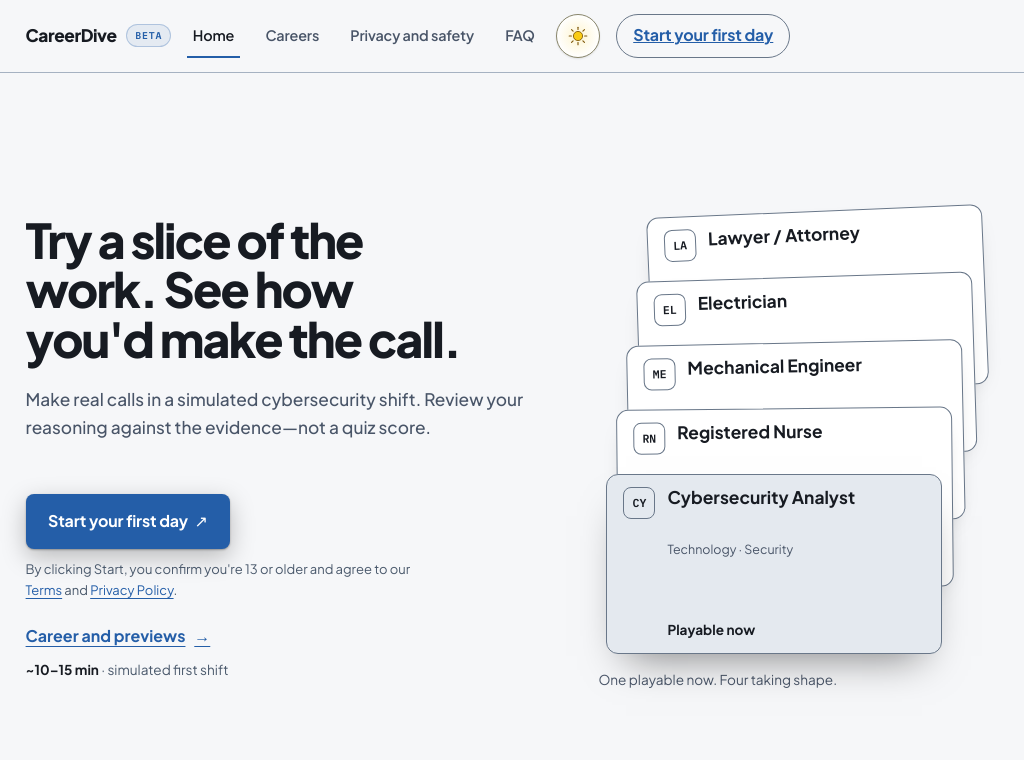
Test case: site routes › landing hero routes directly to the floor map
Click the link to "/start": (128, 521) [26,494,230,549]
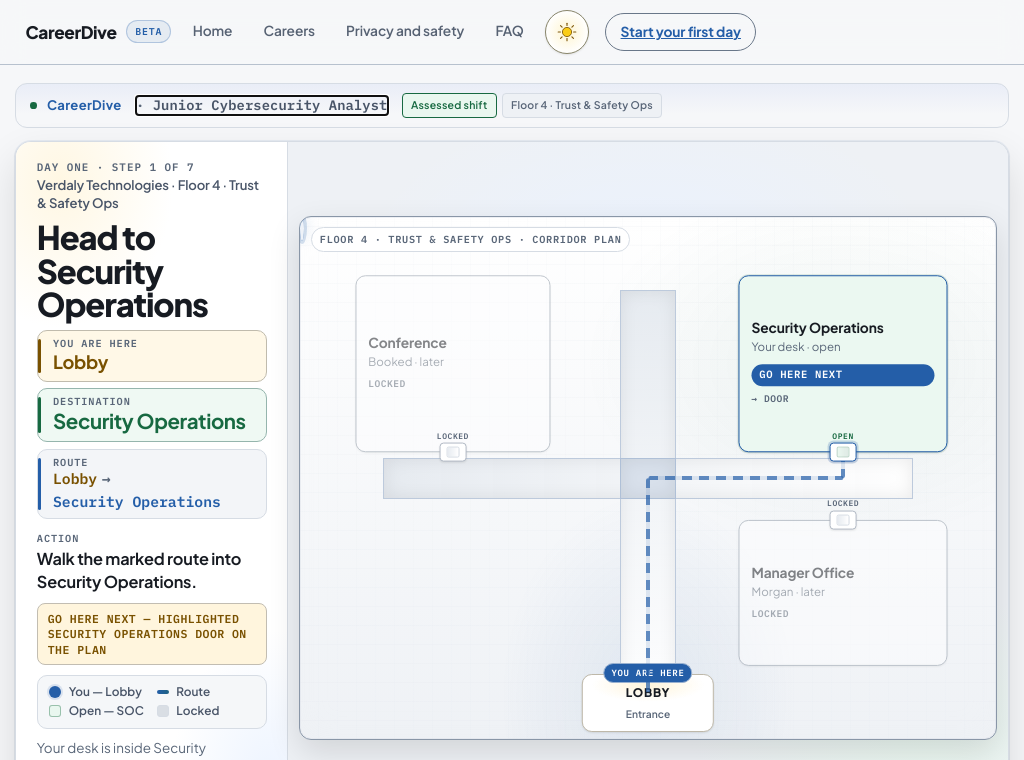
Expected: the heading "Head to Security Operations" is shown, [37,216,208,324]
